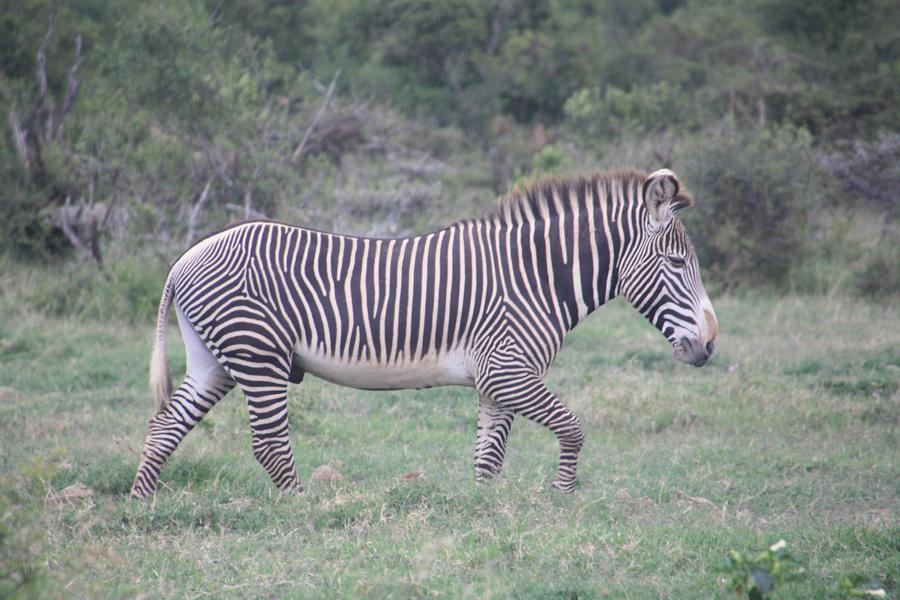zebra_grevys: (149, 203, 550, 376)
